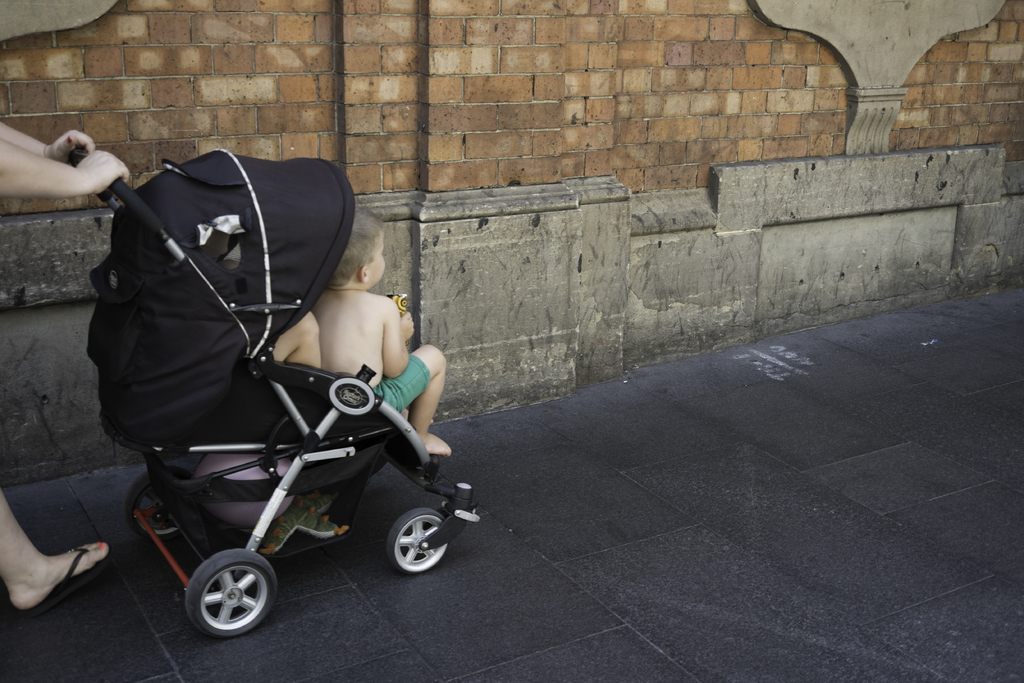Person: (0, 121, 130, 609), (311, 204, 451, 457), (272, 310, 321, 366)
